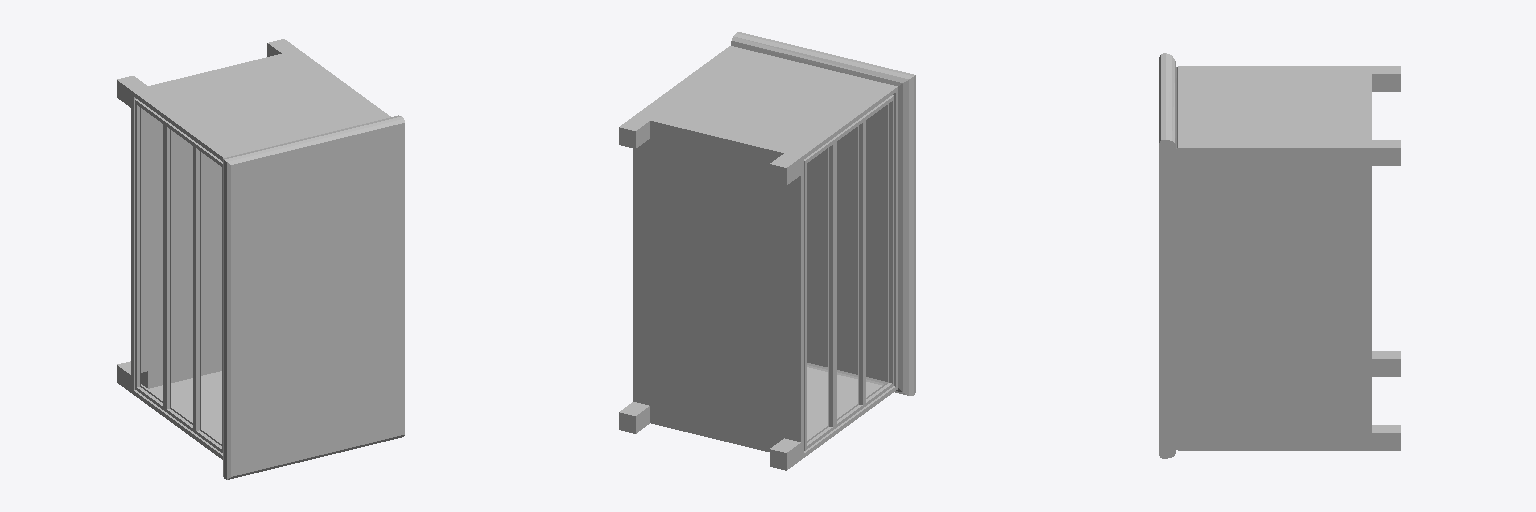
Rendered from f_DresserNoDrawer.obj.
3 renders of one model, left to right at view 1: azimuth 30°, elevation 25°; view 2: azimuth 150°, elevation 25°; view 3: azimuth 270°, elevation 25°, orthographic.
Parts seen in each view (by area): view 1: Dresser_2; view 2: Dresser_2; view 3: Dresser_2.
Boxes of the visible parts, x1,y1,x2,y2 form: Dresser_2: [117, 39, 404, 479]; Dresser_2: [619, 32, 915, 470]; Dresser_2: [1159, 53, 1400, 458].
Size of the model in its own units: 2.12 by 3.63 by 2.5.